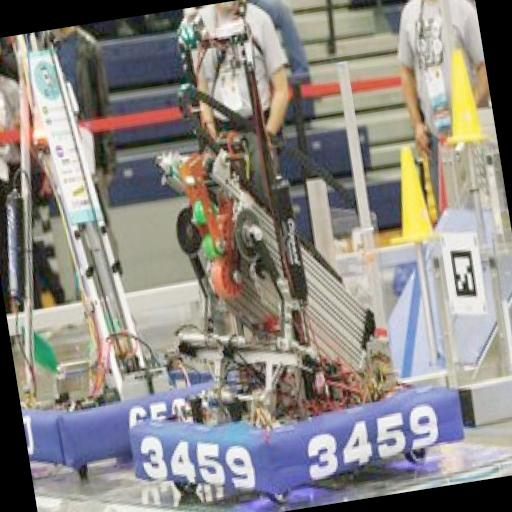robot: (87, 93, 447, 512), (0, 29, 213, 474)
